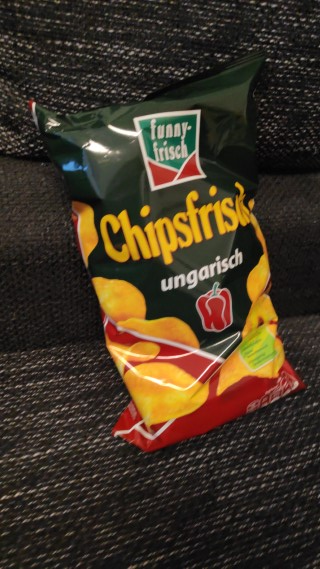chipsfrisch: (24, 48, 309, 456)
